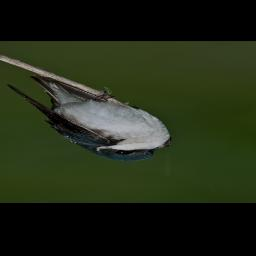Swallow: (6, 75, 176, 164)
